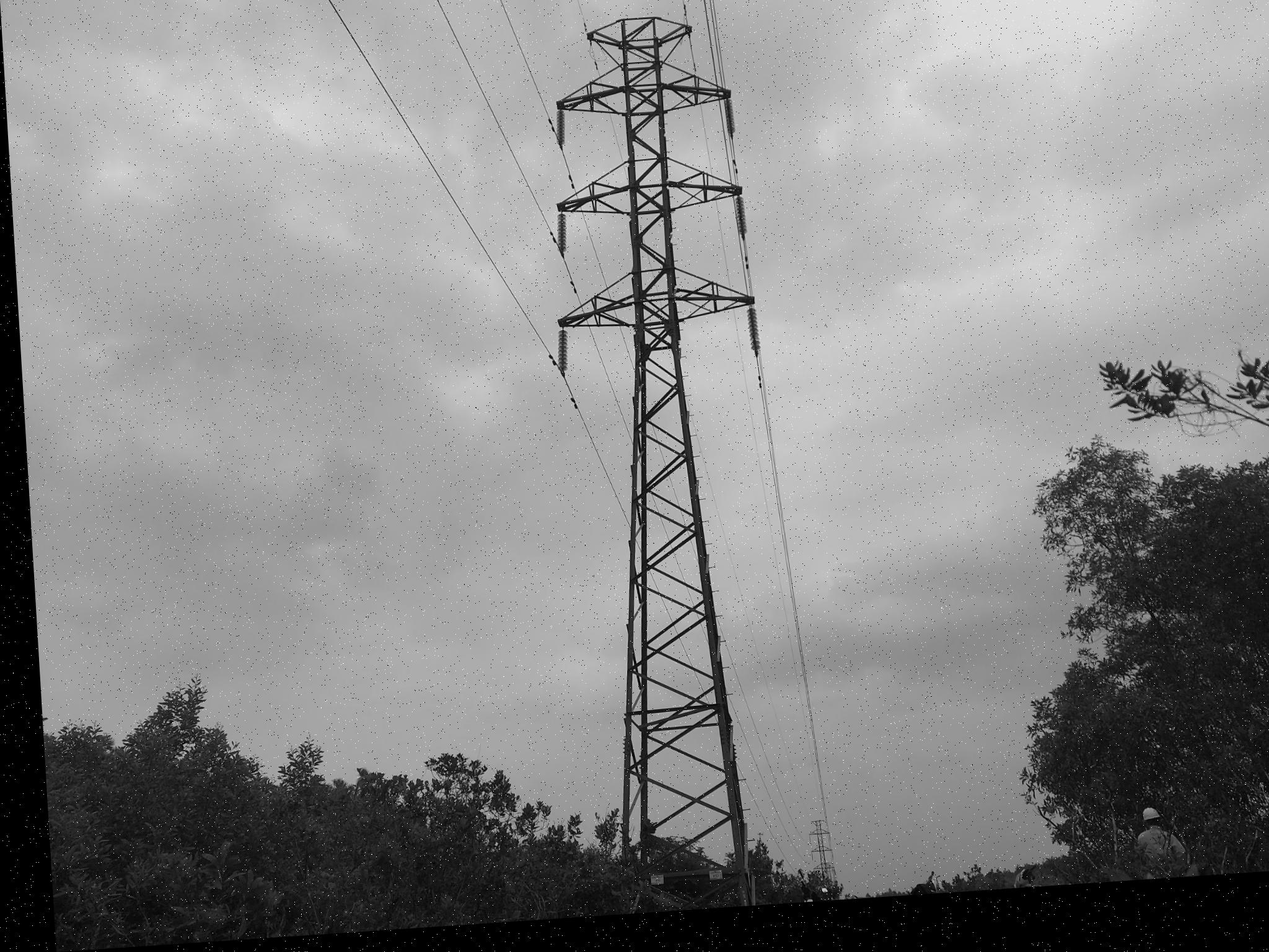tower: (522, 0, 805, 912)
